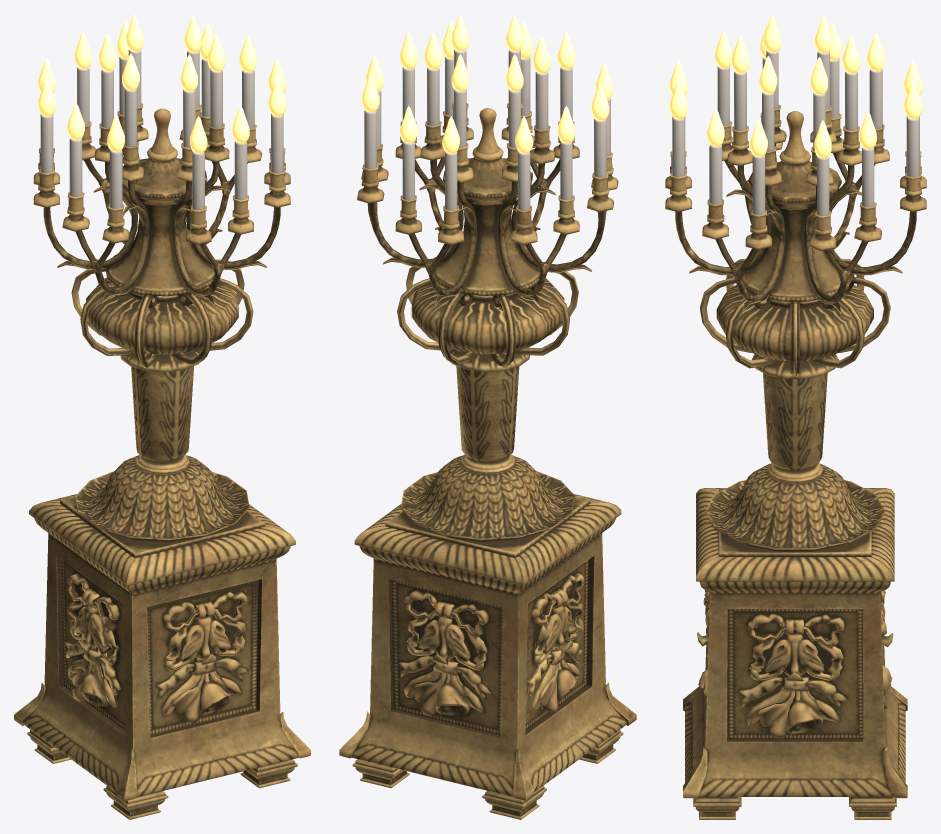
Rendered from dc-titanic_lamp.glb.
3 views of the same model, side by side, from view 1: azimuth 30°, elevation 25°; view 2: azimuth 150°, elevation 25°; view 3: azimuth 270°, elevation 25° (orthographic).
Visible parts, largest first — view 1: Cube.256; view 2: Cube.256; view 3: Cube.256.
Part boxes in pixels (x1,y1,x2,y2): Cube.256: [14, 14, 310, 819]; Cube.256: [339, 14, 636, 819]; Cube.256: [665, 14, 926, 819].
Bounding box in the file's own units: 34.38 × 107 × 33.98.
2 materials, 1 textured.
